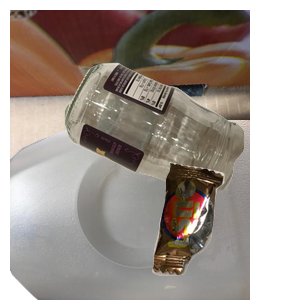cardboard: (10, 10, 250, 190)
glass: (62, 60, 300, 240)
plastic: (10, 120, 250, 300)
trash: (150, 160, 300, 300)
